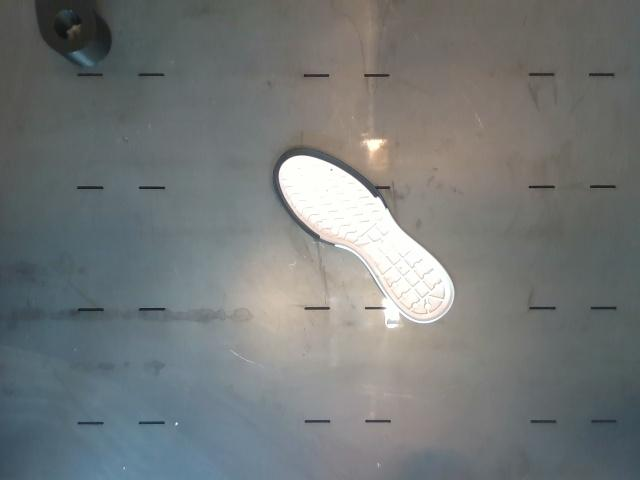shoes: (275, 149, 454, 322)
